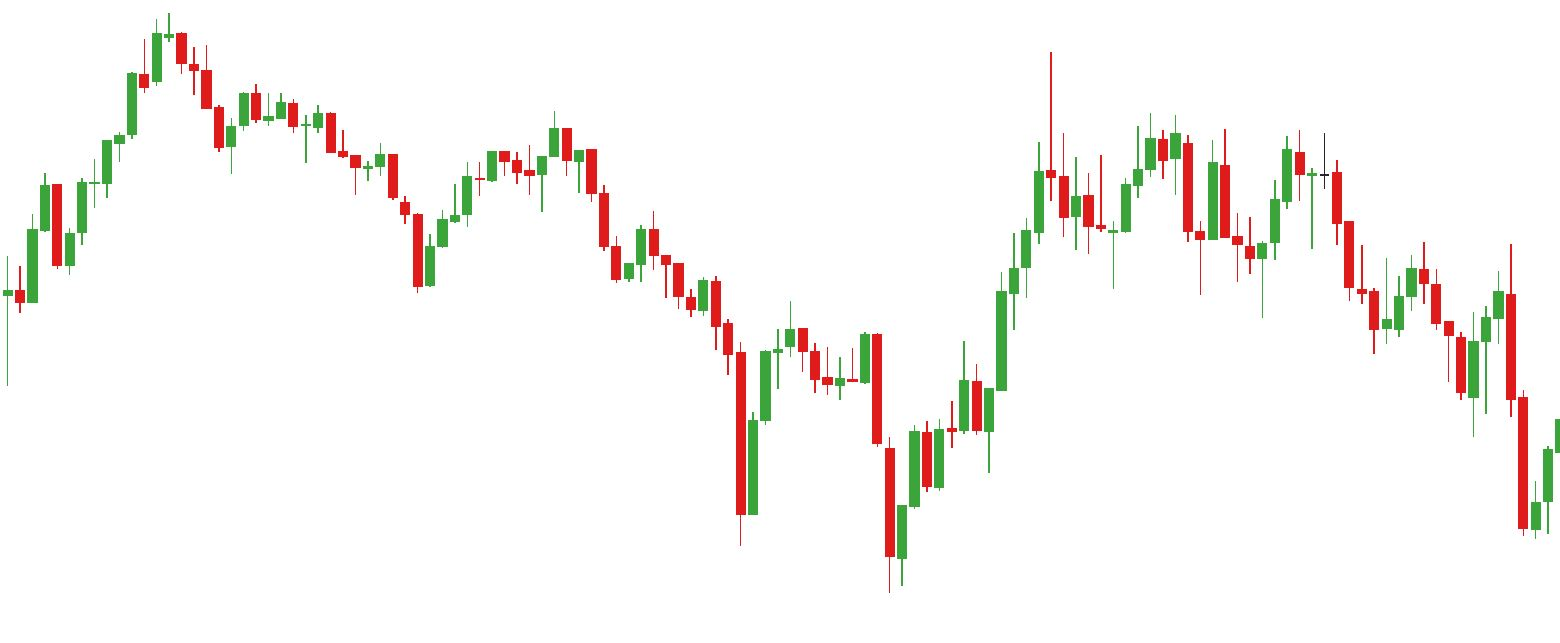buy: (733, 385, 909, 593)
